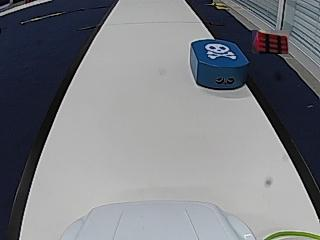danger: (205, 42, 235, 59)
